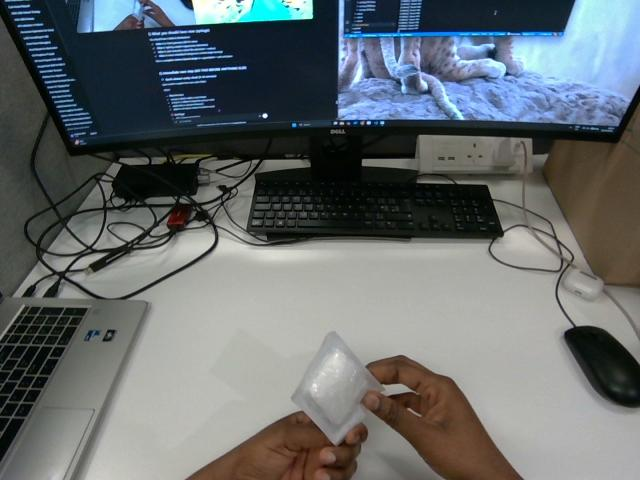gauze: (292, 331, 383, 444)
